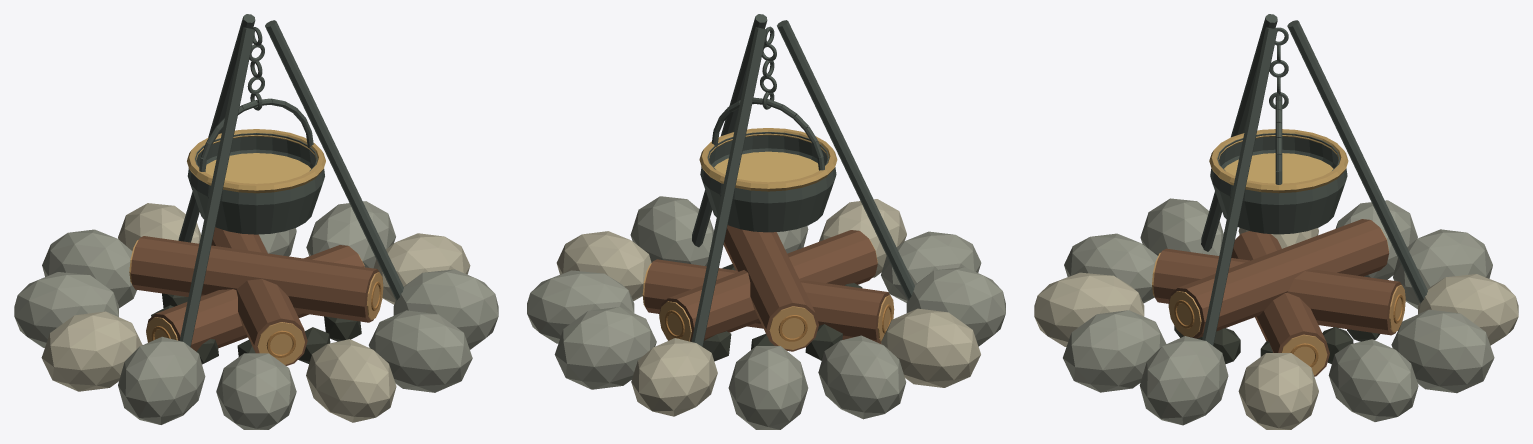
The model's file is storybook_camp_v1.glb.
3 views of the same model, side by side, from view 1: azimuth 30°, elevation 25°; view 2: azimuth 150°, elevation 25°; view 3: azimuth 270°, elevation 25° (orthographic).
Parts seen in each view (by area): view 1: Camp stone, Camp bark, Camp iron, Camp light_stone, Camp cut, Camp brass, Camp soup, Camp coal, Camp ring; view 2: Camp stone, Camp iron, Camp bark, Camp light_stone, Camp cut, Camp brass, Camp soup, Camp coal, Camp ring; view 3: Camp stone, Camp bark, Camp iron, Camp light_stone, Camp cut, Camp brass, Camp soup, Camp coal, Camp ring.
Part boxes in pixels (left/top/right/bottom): Camp stone: left=14, top=201, right=498, bottom=429; Camp bark: left=131, top=227, right=379, bottom=365; Camp iron: left=178, top=14, right=403, bottom=346; Camp light_stone: left=41, top=203, right=470, bottom=422; Camp cut: left=129, top=240, right=383, bottom=364; Camp brass: left=187, top=129, right=325, bottom=193; Camp soup: left=205, top=153, right=310, bottom=183; Camp coal: left=151, top=293, right=361, bottom=364; Camp ring: left=151, top=281, right=381, bottom=357; Camp stone: left=527, top=196, right=1005, bottom=429; Camp iron: left=691, top=14, right=914, bottom=346; Camp bark: left=644, top=225, right=890, bottom=351; Camp light_stone: left=556, top=199, right=980, bottom=416; Camp cut: left=642, top=239, right=894, bottom=349; Camp brass: left=699, top=128, right=837, bottom=191; Camp soup: left=714, top=151, right=818, bottom=182; Camp coal: left=703, top=264, right=862, bottom=361; Camp ring: left=664, top=304, right=892, bottom=341; Camp stone: left=1063, top=198, right=1494, bottom=425; Camp bark: left=1153, top=219, right=1401, bottom=376; Camp iron: left=1201, top=14, right=1427, bottom=345; Camp light_stone: left=1034, top=228, right=1518, bottom=429; Camp cut: left=1152, top=229, right=1405, bottom=375; Camp brass: left=1209, top=129, right=1348, bottom=193; Camp soup: left=1224, top=153, right=1333, bottom=183; Camp coal: left=1174, top=326, right=1379, bottom=364; Camp ring: left=1174, top=294, right=1403, bottom=367.
Bounding box in the file's own units: 2.03 × 1.53 × 2.04.
